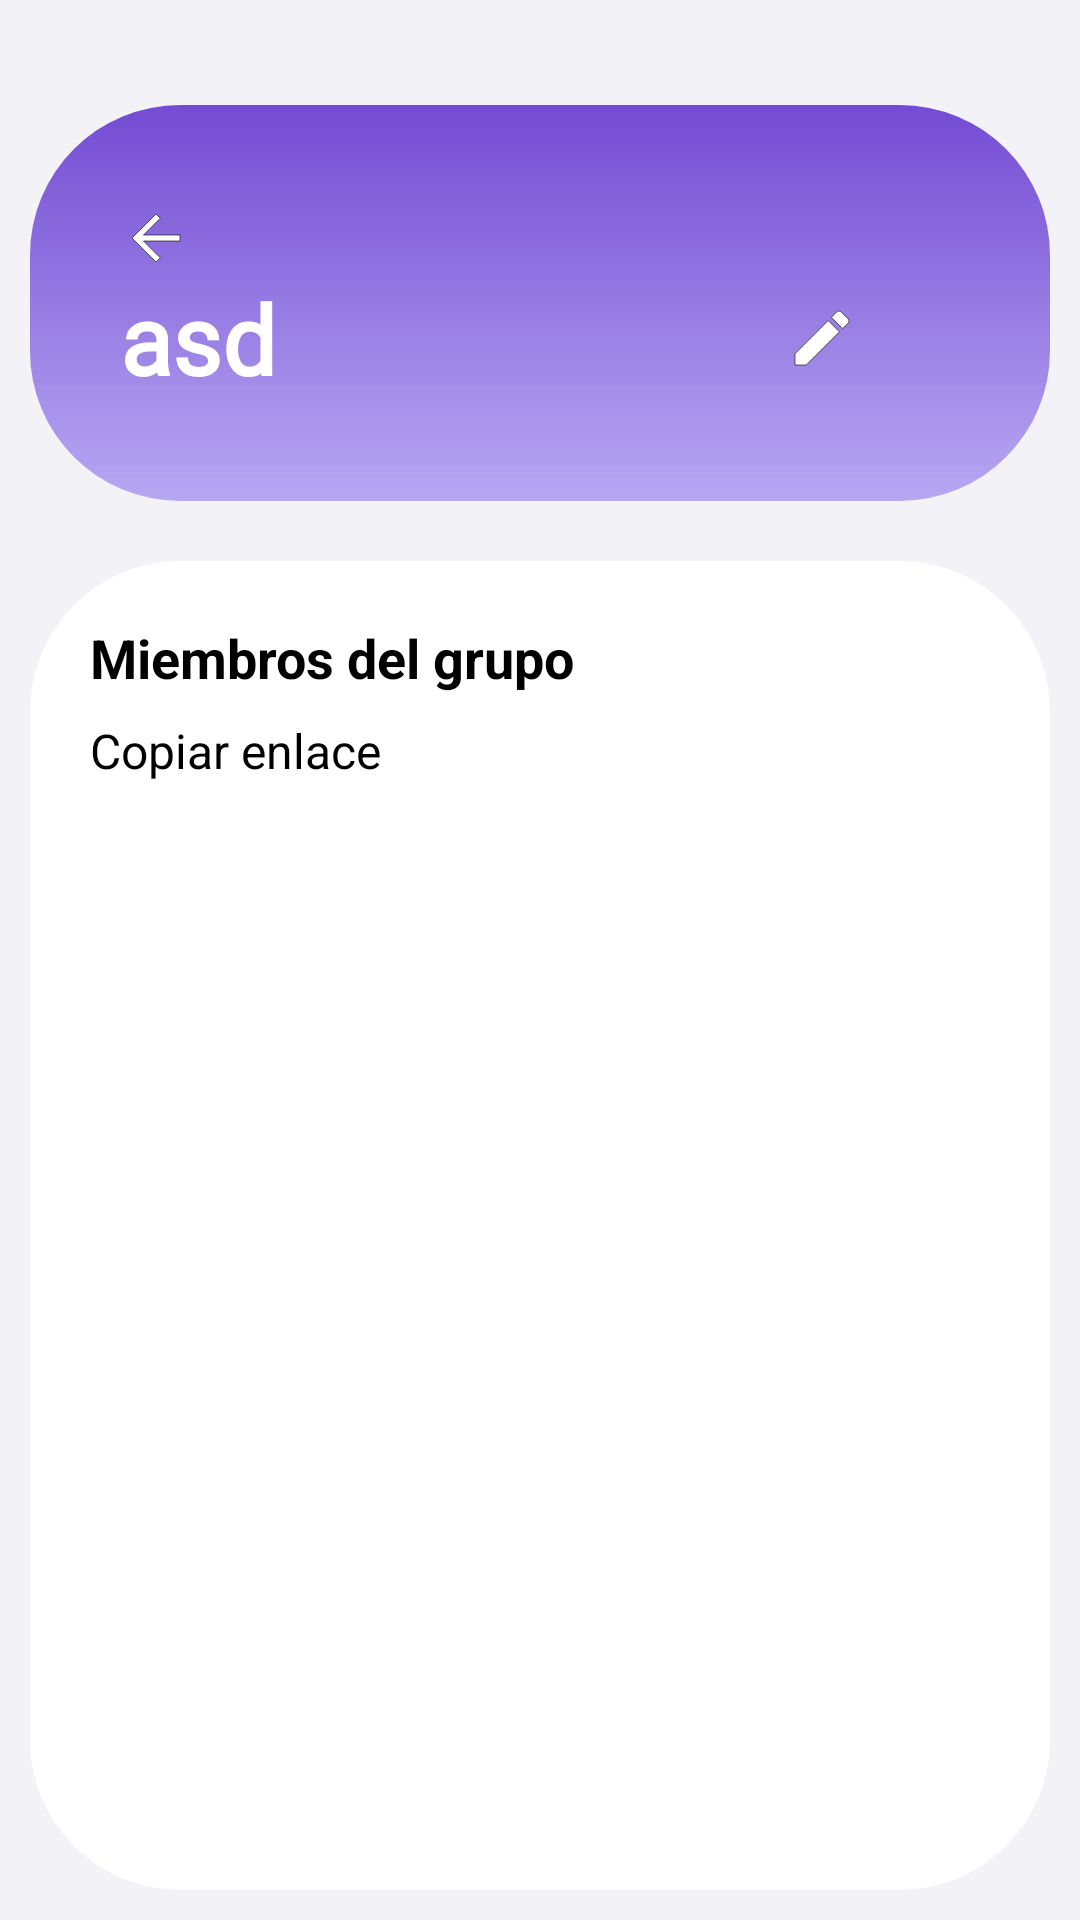

Screen size 1080w x 1920h. Icon name, then its box in pixels as bbox(x1, y1, x2, y2):
Volver: bbox(132, 214, 181, 262)
